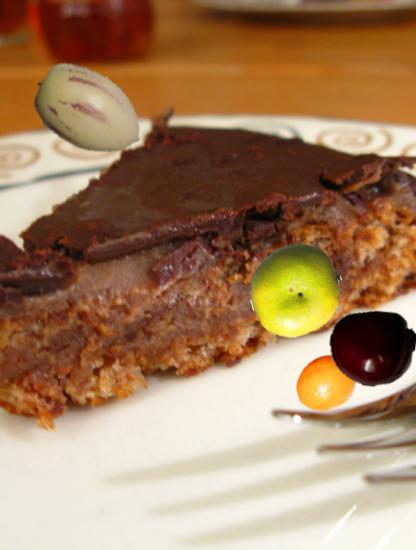Cherry: (329, 306, 415, 392)
Lemon: (294, 353, 357, 416)
Pepino: (31, 52, 148, 169)
Pomelo: (249, 243, 343, 337)
